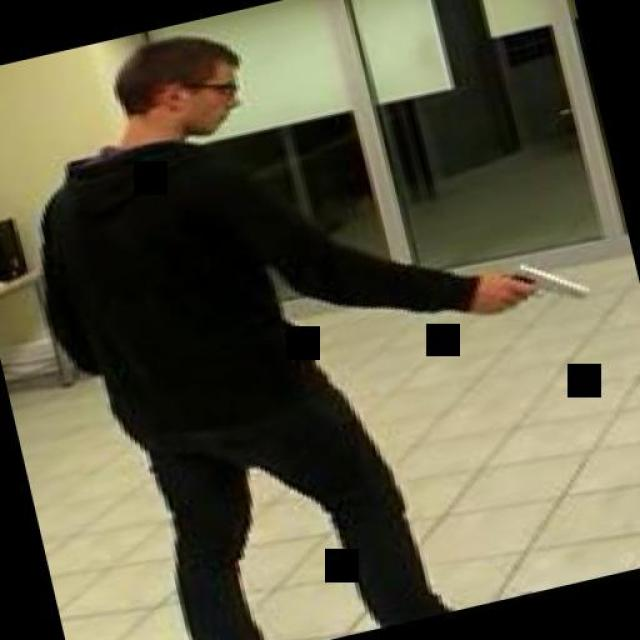gun: (472, 244, 592, 322)
